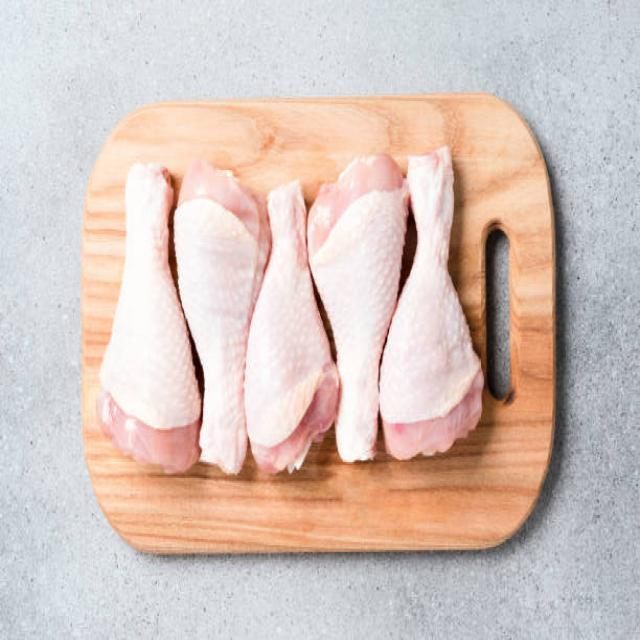Chicken: (92, 158, 198, 465), (388, 143, 484, 466), (316, 149, 403, 463), (245, 197, 334, 482), (179, 159, 257, 476)
